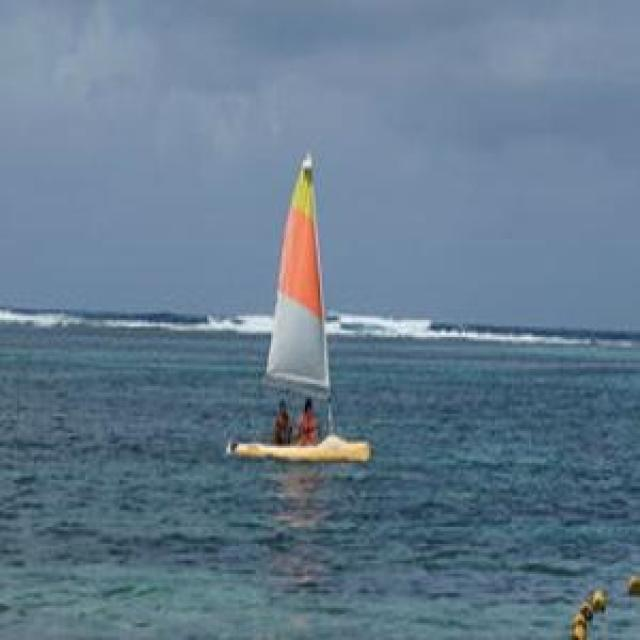sailboat: (210, 152, 376, 466)
